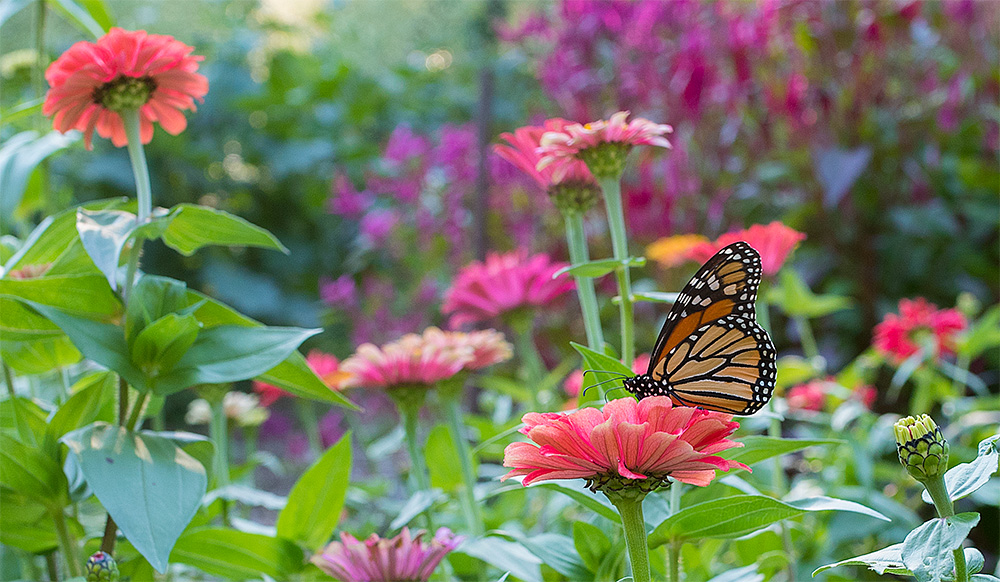Butterfly: (603, 240, 781, 420)
